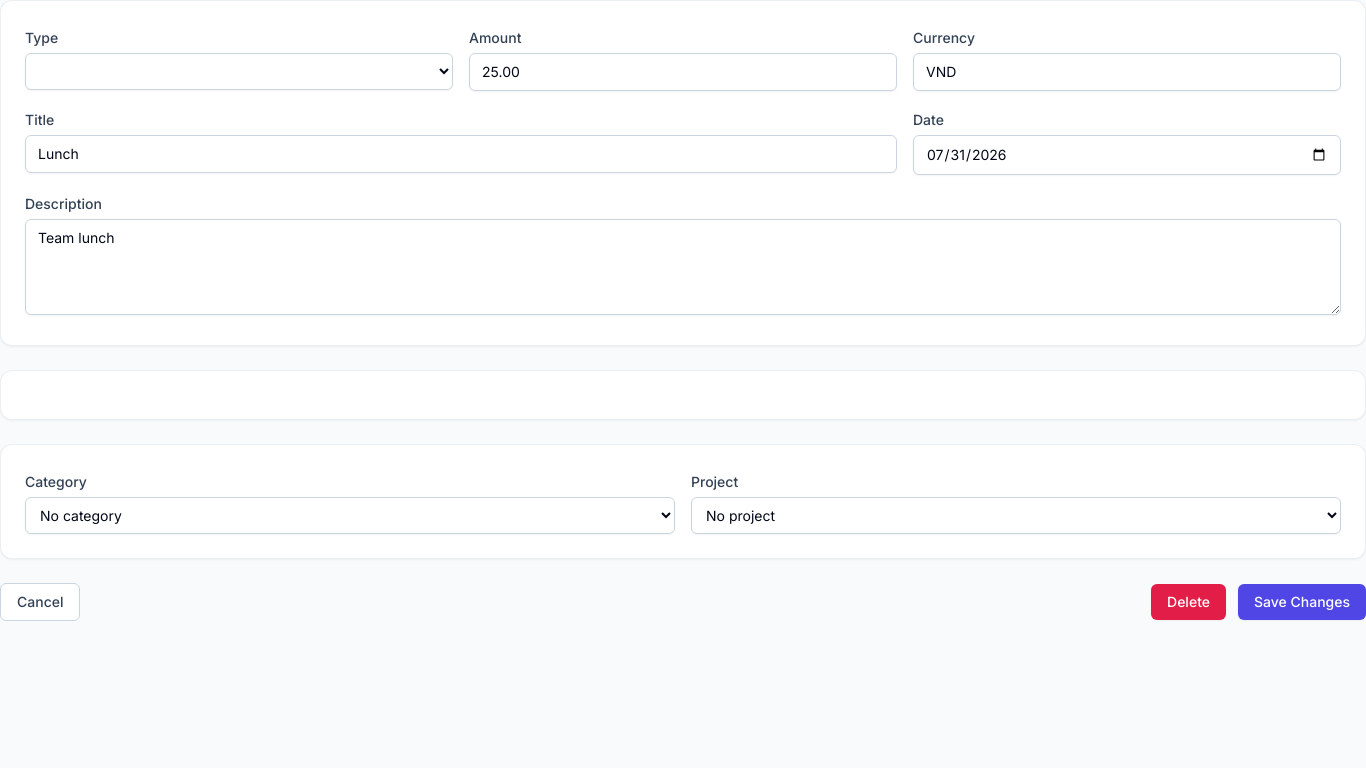
transaction delete confirmation › contains thrown failures and permits a successful retry with navigation
Click the button "Delete" at (1188, 602), box x1=1151 y1=584 x2=1226 y2=620
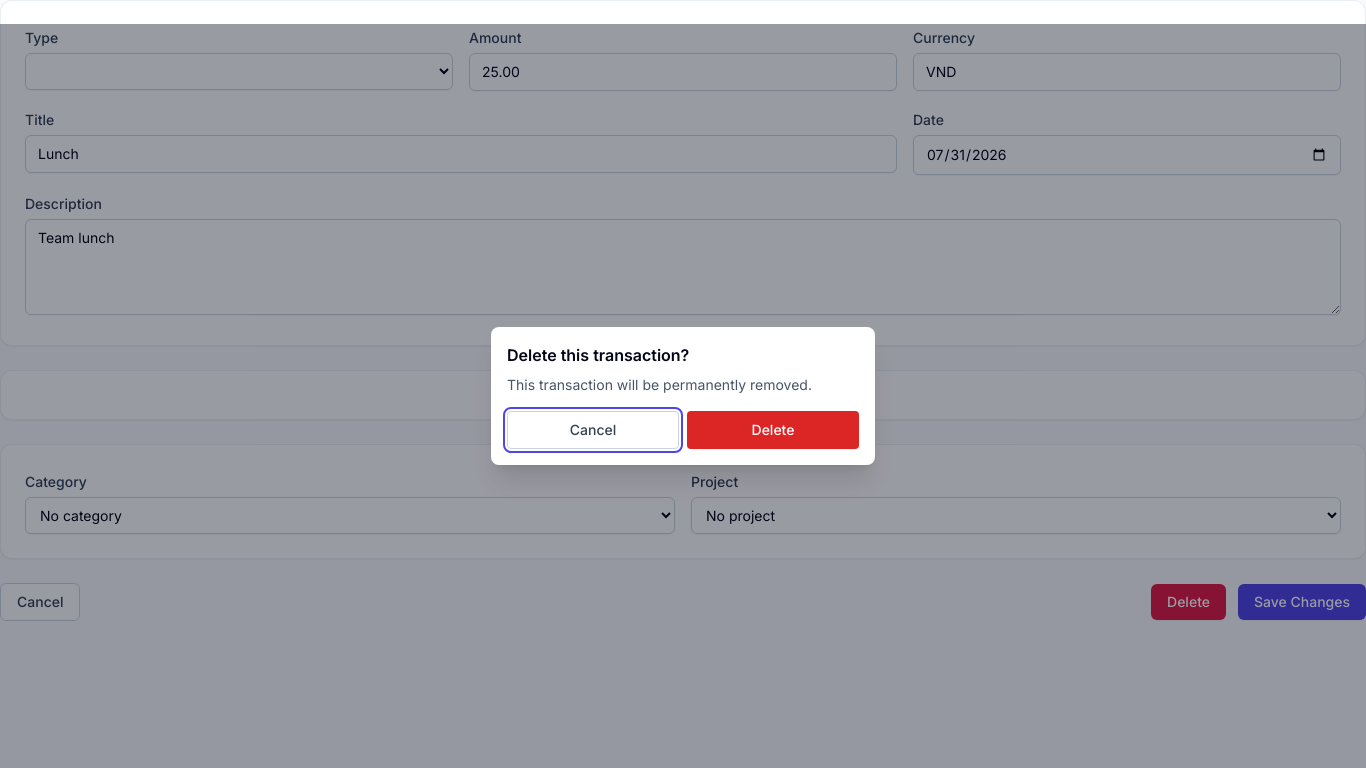
Click the button "Delete" at (773, 430), box x1=687 y1=411 x2=859 y2=449
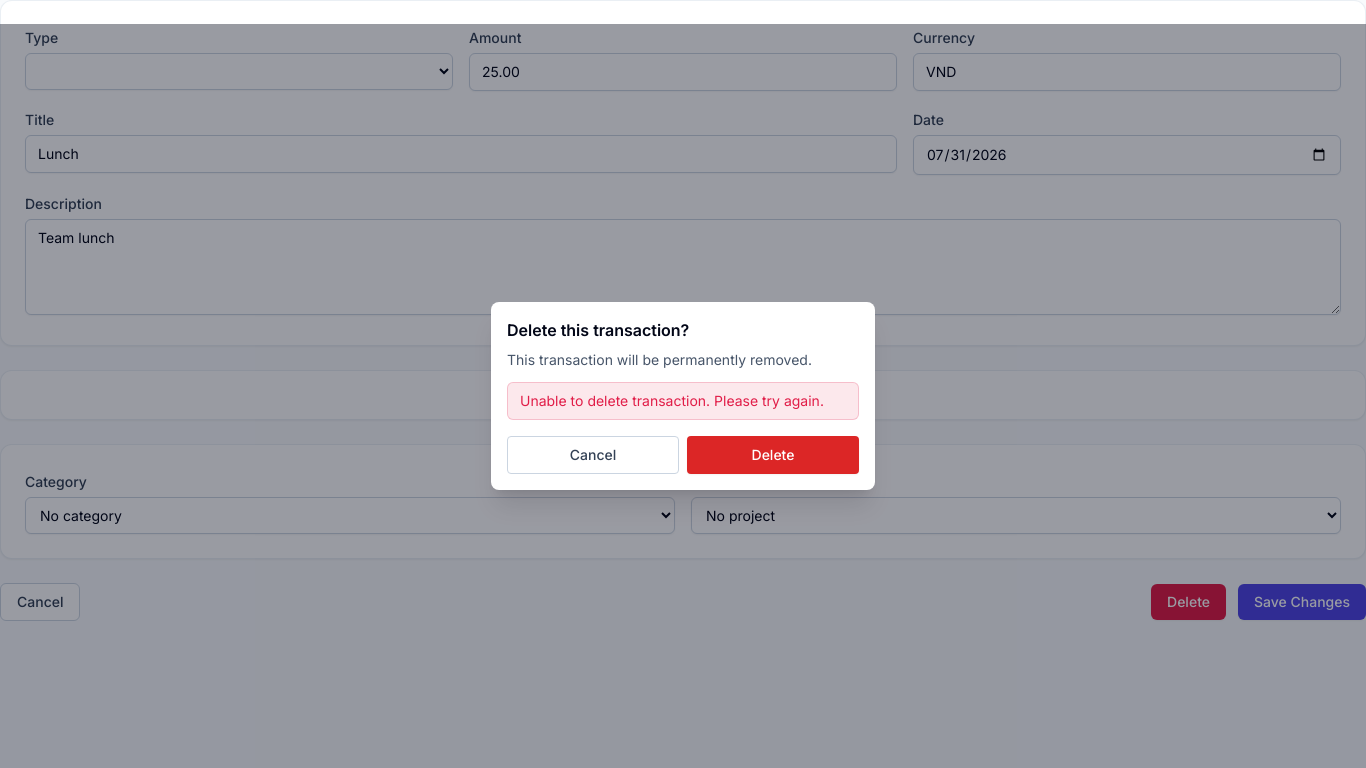
expect the message reads "Unable to delete transaction. Please try again.": met, box x1=520 y1=392 x2=824 y2=409
Click the button "Delete" at (773, 455), box x1=687 y1=436 x2=859 y2=474
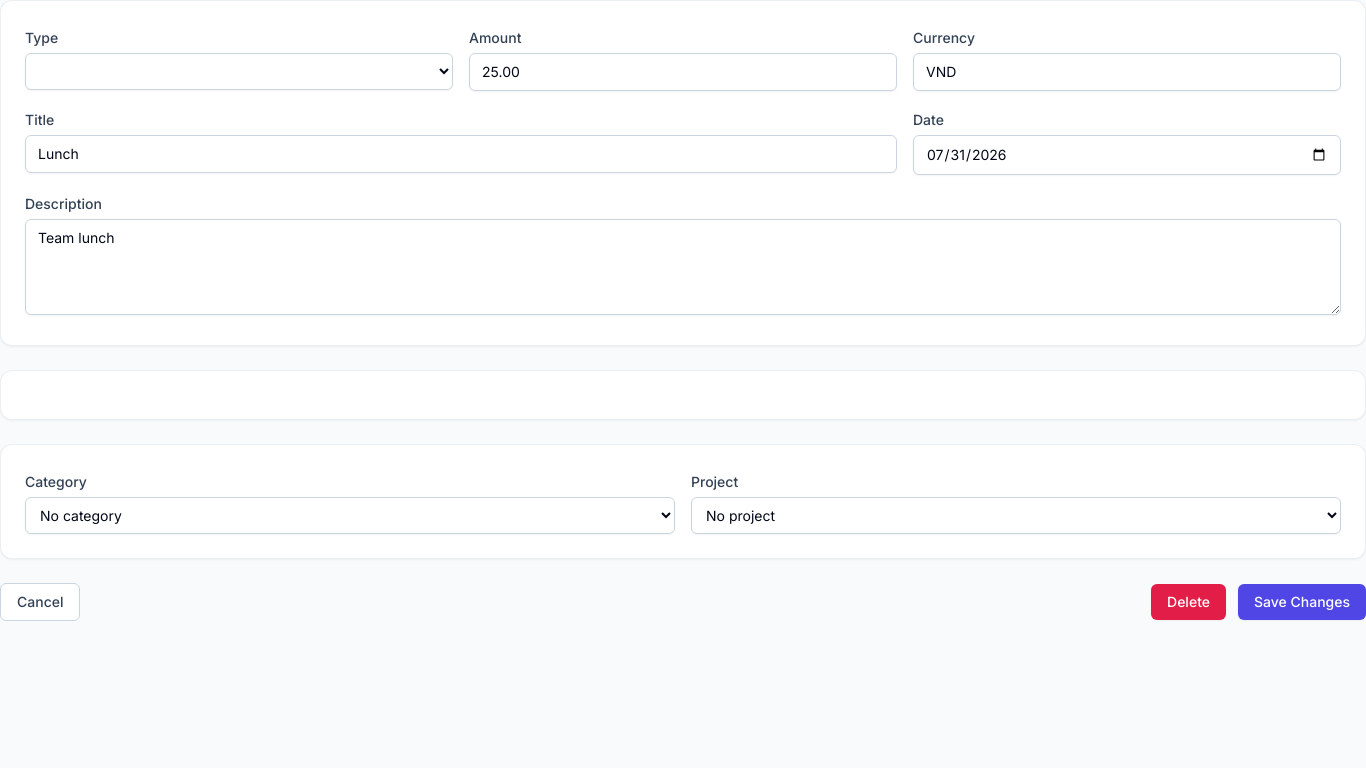
expect the dialog is gone: met
